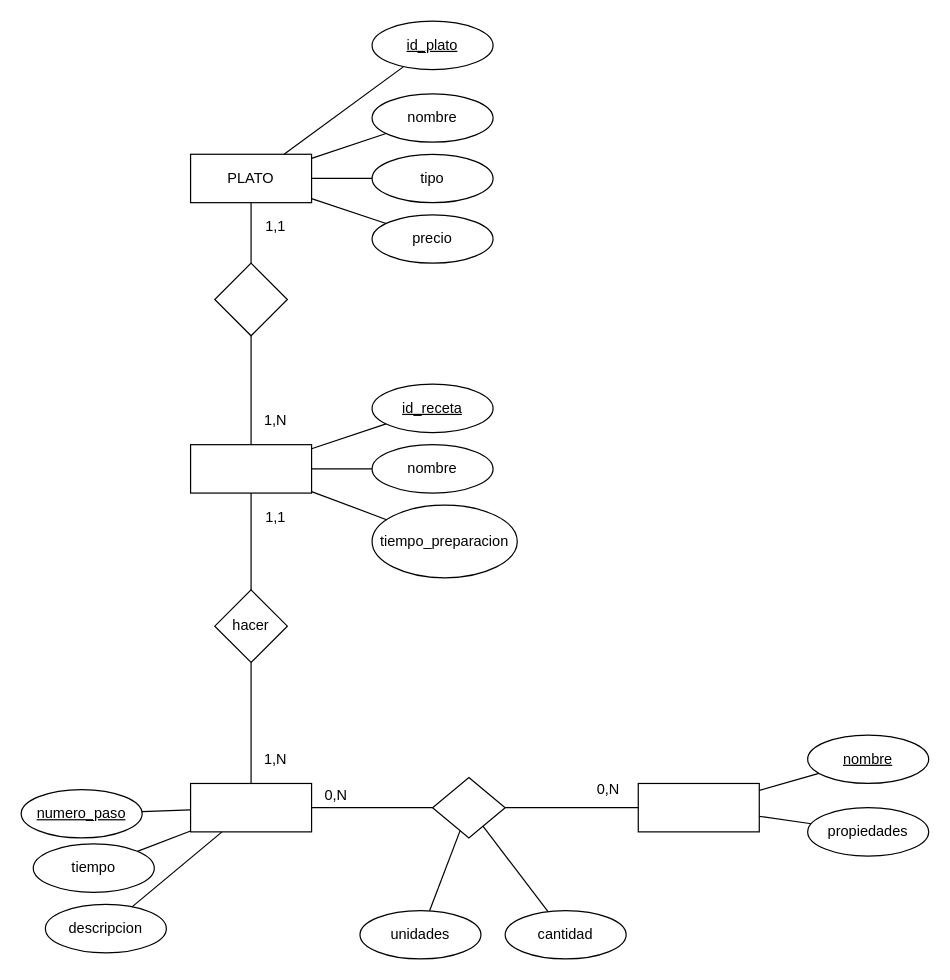
The diagram is 950 pixels wide and 980 high, and some of its shapes have lost their labels. The centre of each missing label's shape, as x and y in pixels:
cocina: (250,299)
INGREDIENTE: (698,807)
meter: (468,807)
PASO RECETA: (250,807)
RECETA: (250,468)
